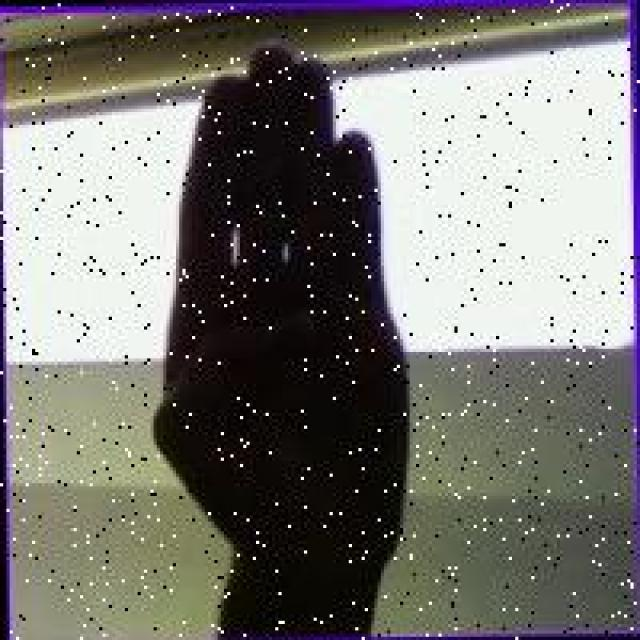B: (134, 32, 420, 579)
